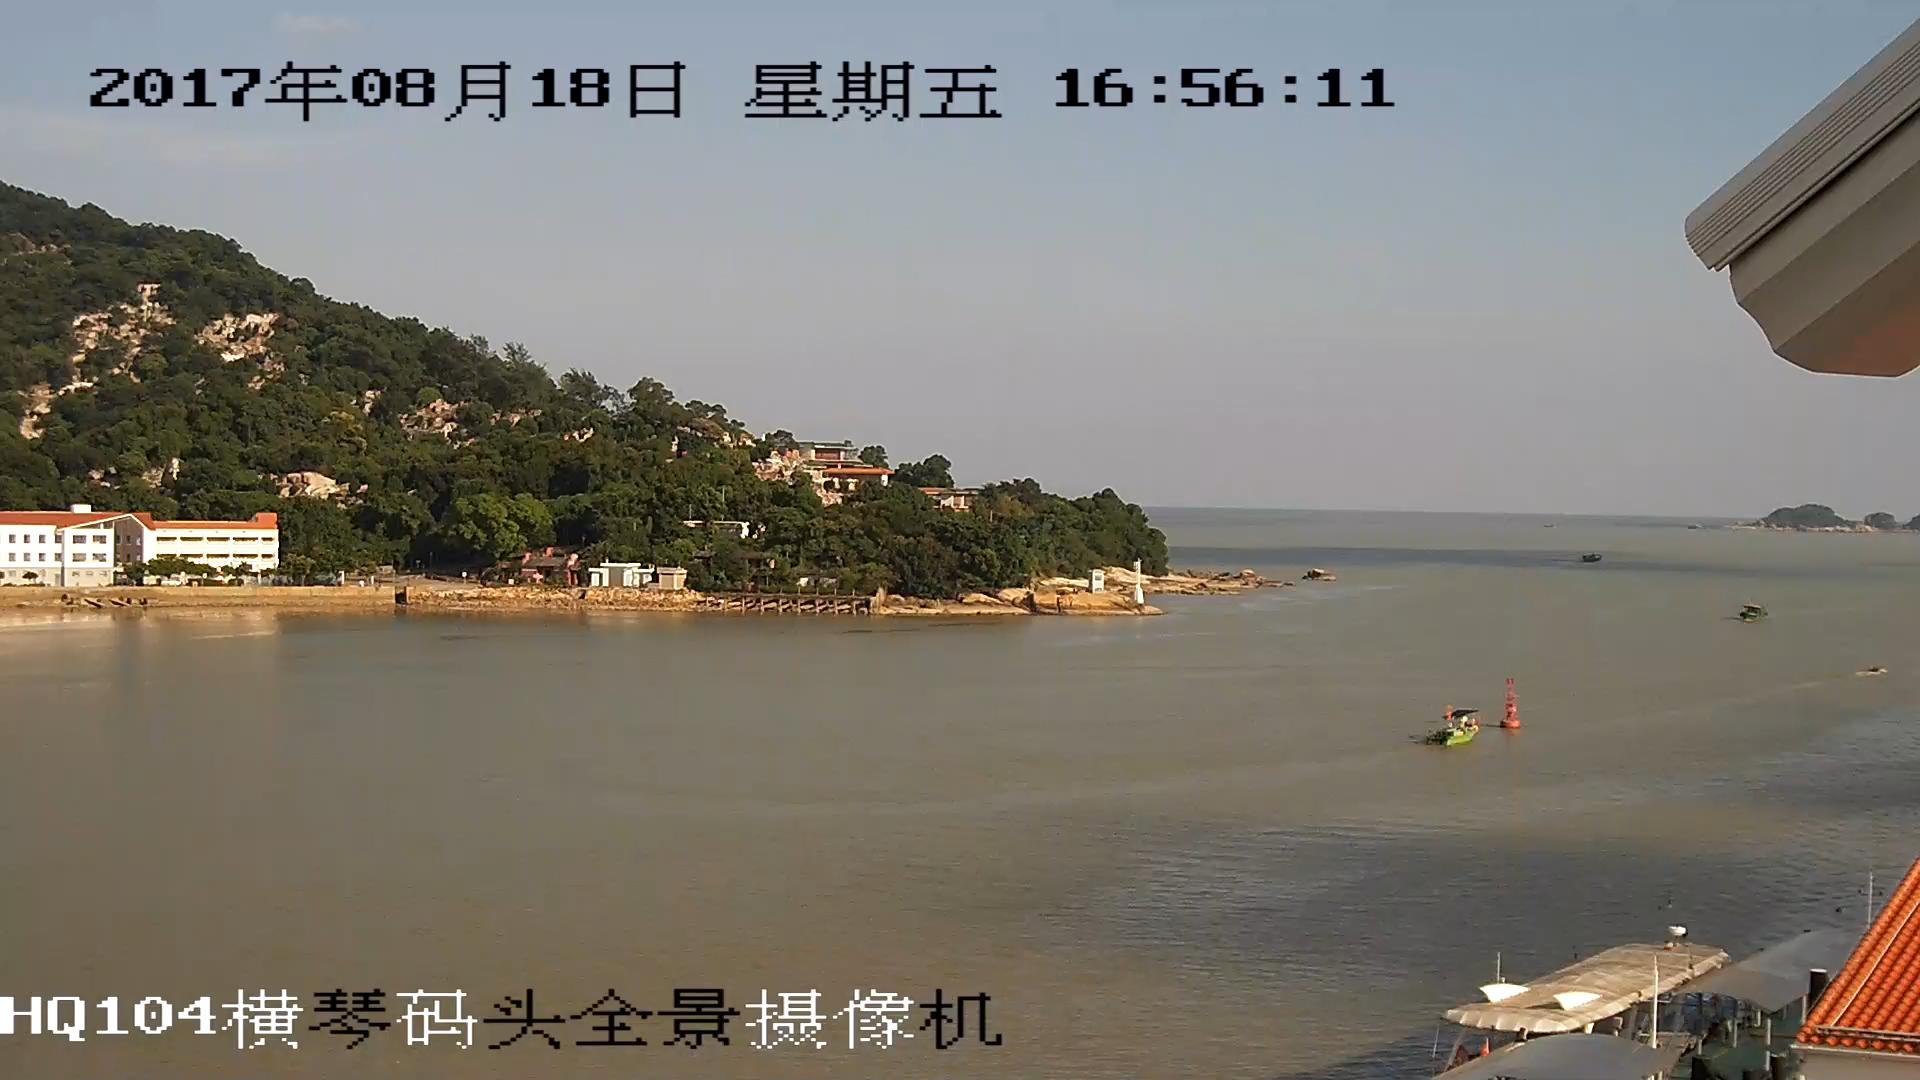fishing boat: (1425, 710, 1480, 749)
